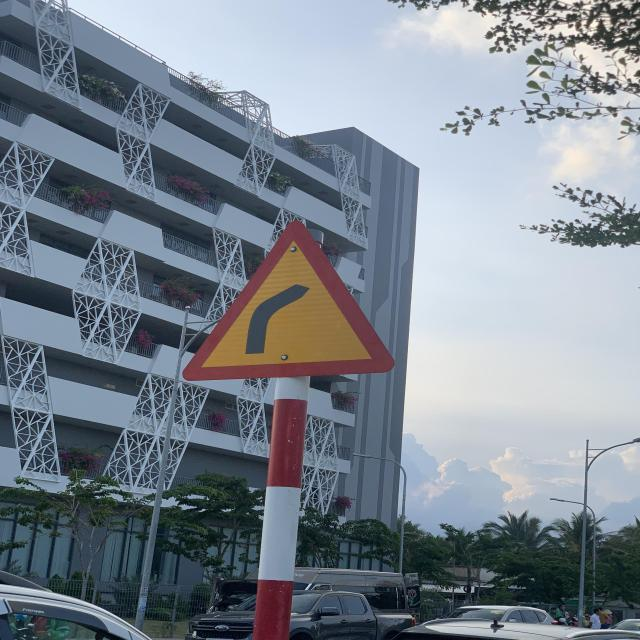Duong_Nguoi_Di_Bo_Cat_Ngang: (182, 218, 399, 386)
